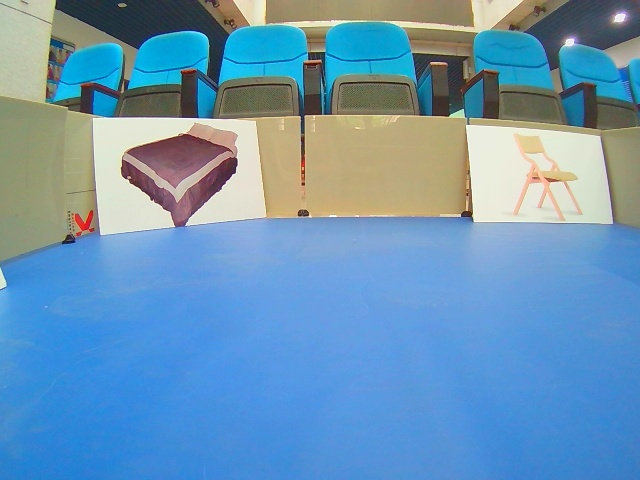bed: (93, 116, 268, 238)
table: (466, 125, 614, 226)
